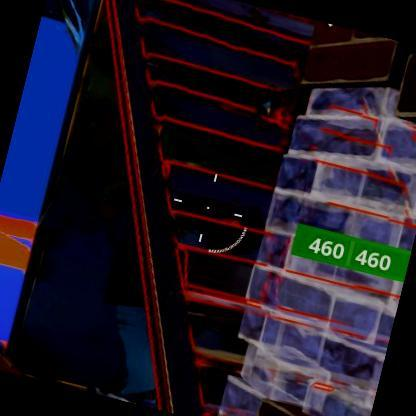person: (250, 60, 328, 176)
